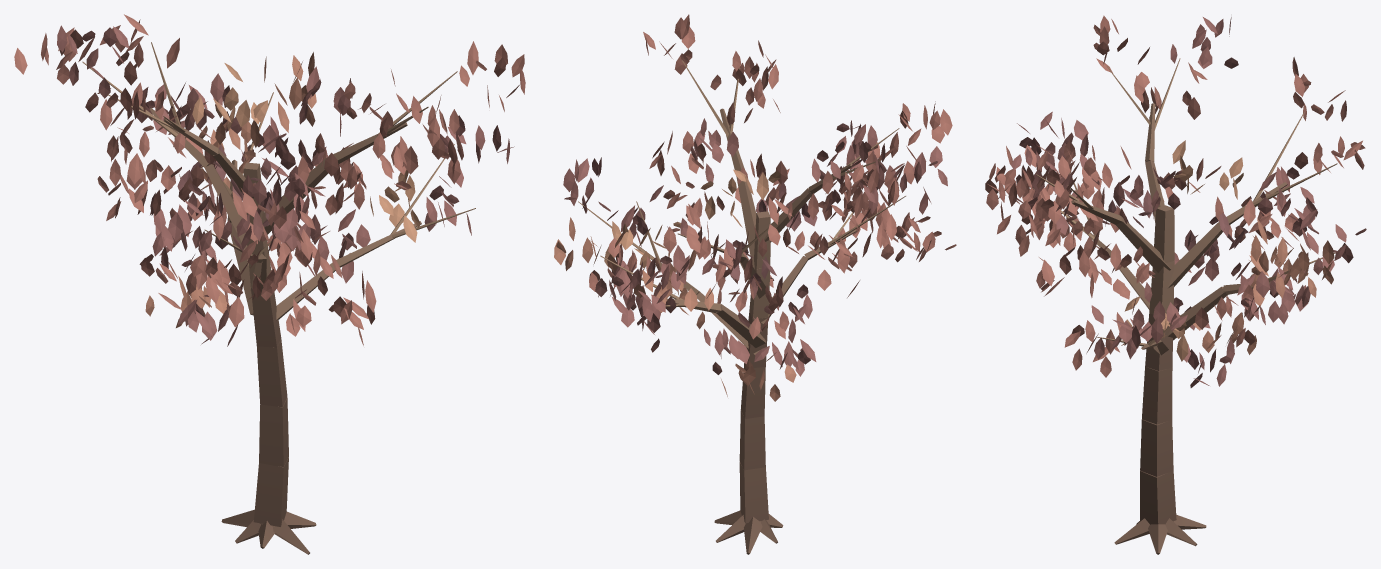
File: tree_3d_01_red.glb
3 views of the same model, side by side, from view 1: azimuth 30°, elevation 25°; view 2: azimuth 150°, elevation 25°; view 3: azimuth 270°, elevation 25° (orthographic). The views are drawn at different scales.
Visible parts, largest first — view 1: tree_3d_01_red_foliage, tree_3d_01_red_wood; view 2: tree_3d_01_red_foliage, tree_3d_01_red_wood; view 3: tree_3d_01_red_foliage, tree_3d_01_red_wood.
Part boxes in pixels (x1,y1,x2,y2): tree_3d_01_red_foliage: (14,14,525,346); tree_3d_01_red_wood: (82,42,475,554); tree_3d_01_red_foliage: (554,14,956,401); tree_3d_01_red_wood: (578,60,905,554); tree_3d_01_red_foliage: (985,15,1366,387); tree_3d_01_red_wood: (1033,58,1337,554).
Bounding box in the file's own units: 7.5 × 9 × 6.8.
